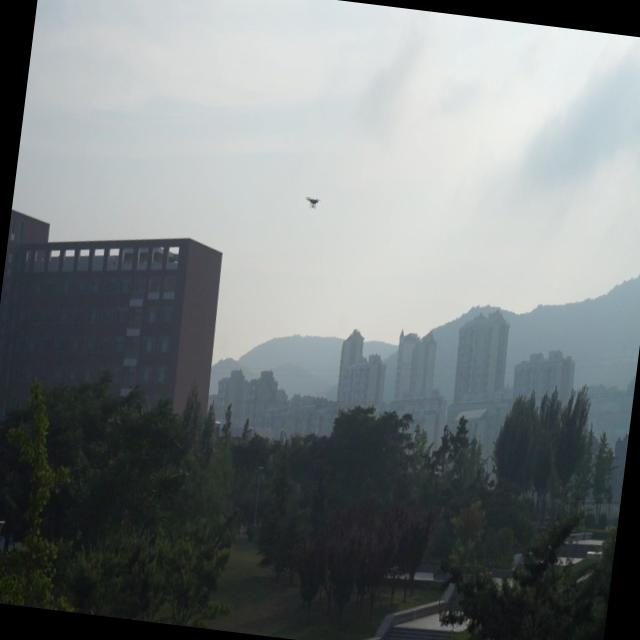drone: (302, 193, 322, 213)
